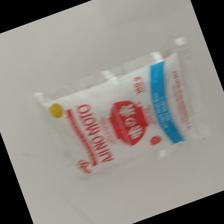Ajinomoto: (41, 55, 194, 198)
